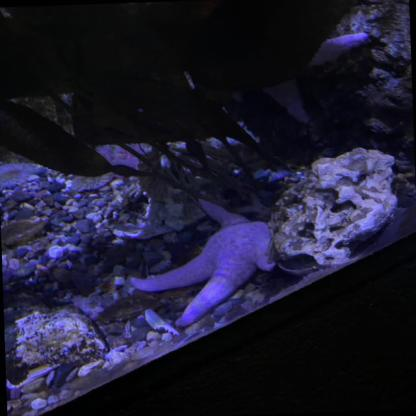starfish: (125, 194, 277, 330)
